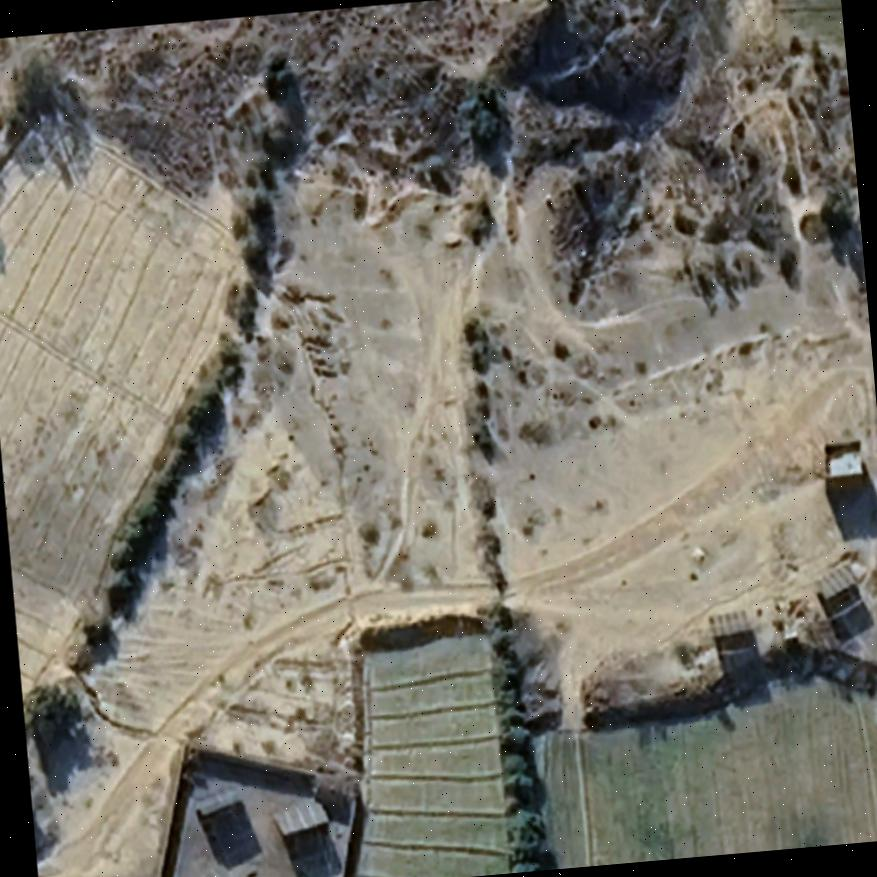Solarpanel: (262, 788, 332, 839), (812, 557, 861, 599), (191, 784, 246, 817), (703, 607, 747, 638), (196, 863, 231, 877)
